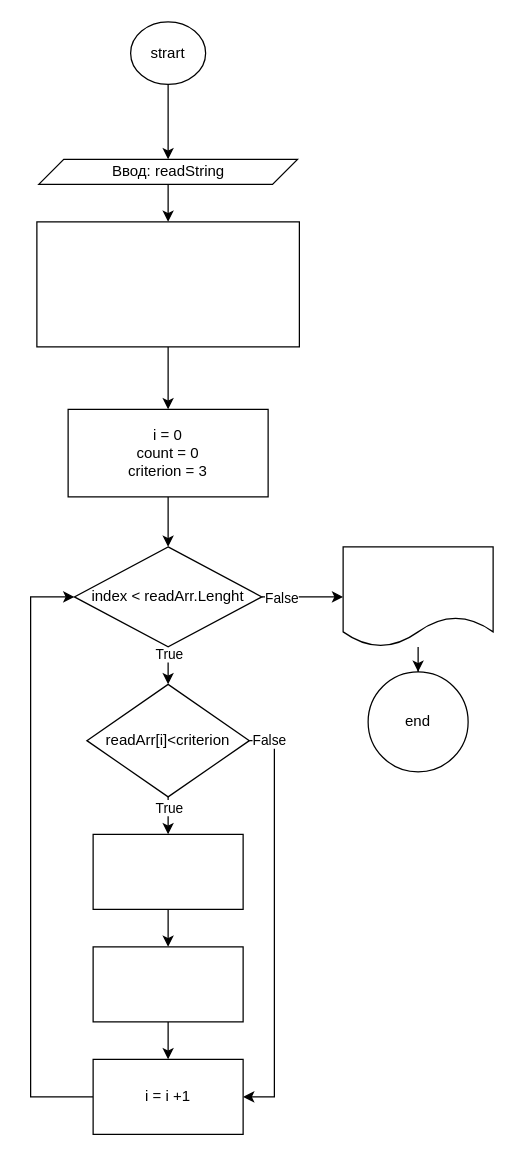
This 515x1156 diagram has some shape labels left out. The shapes that lost their labels are listed below. From the top down, each one's box as (x1, y1, x2, y2) in pixels, then its label:
(36, 221, 299, 347): readArr[] = readString.split outputArr = new arr[readArr.Lenght]
(342, 546, 493, 647): outputArr
(92, 833, 243, 909): outputArr[count] = readArr[i]
(92, 946, 243, 1022): count = count + 1
